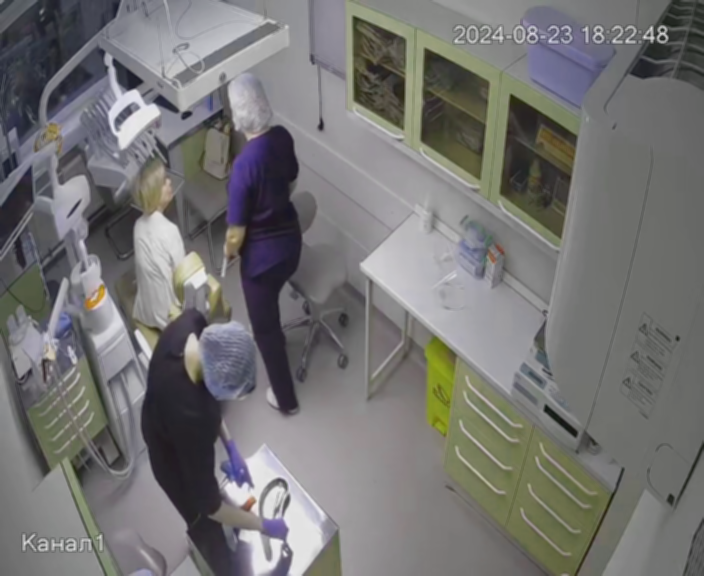Empty: (112, 246, 238, 344)
